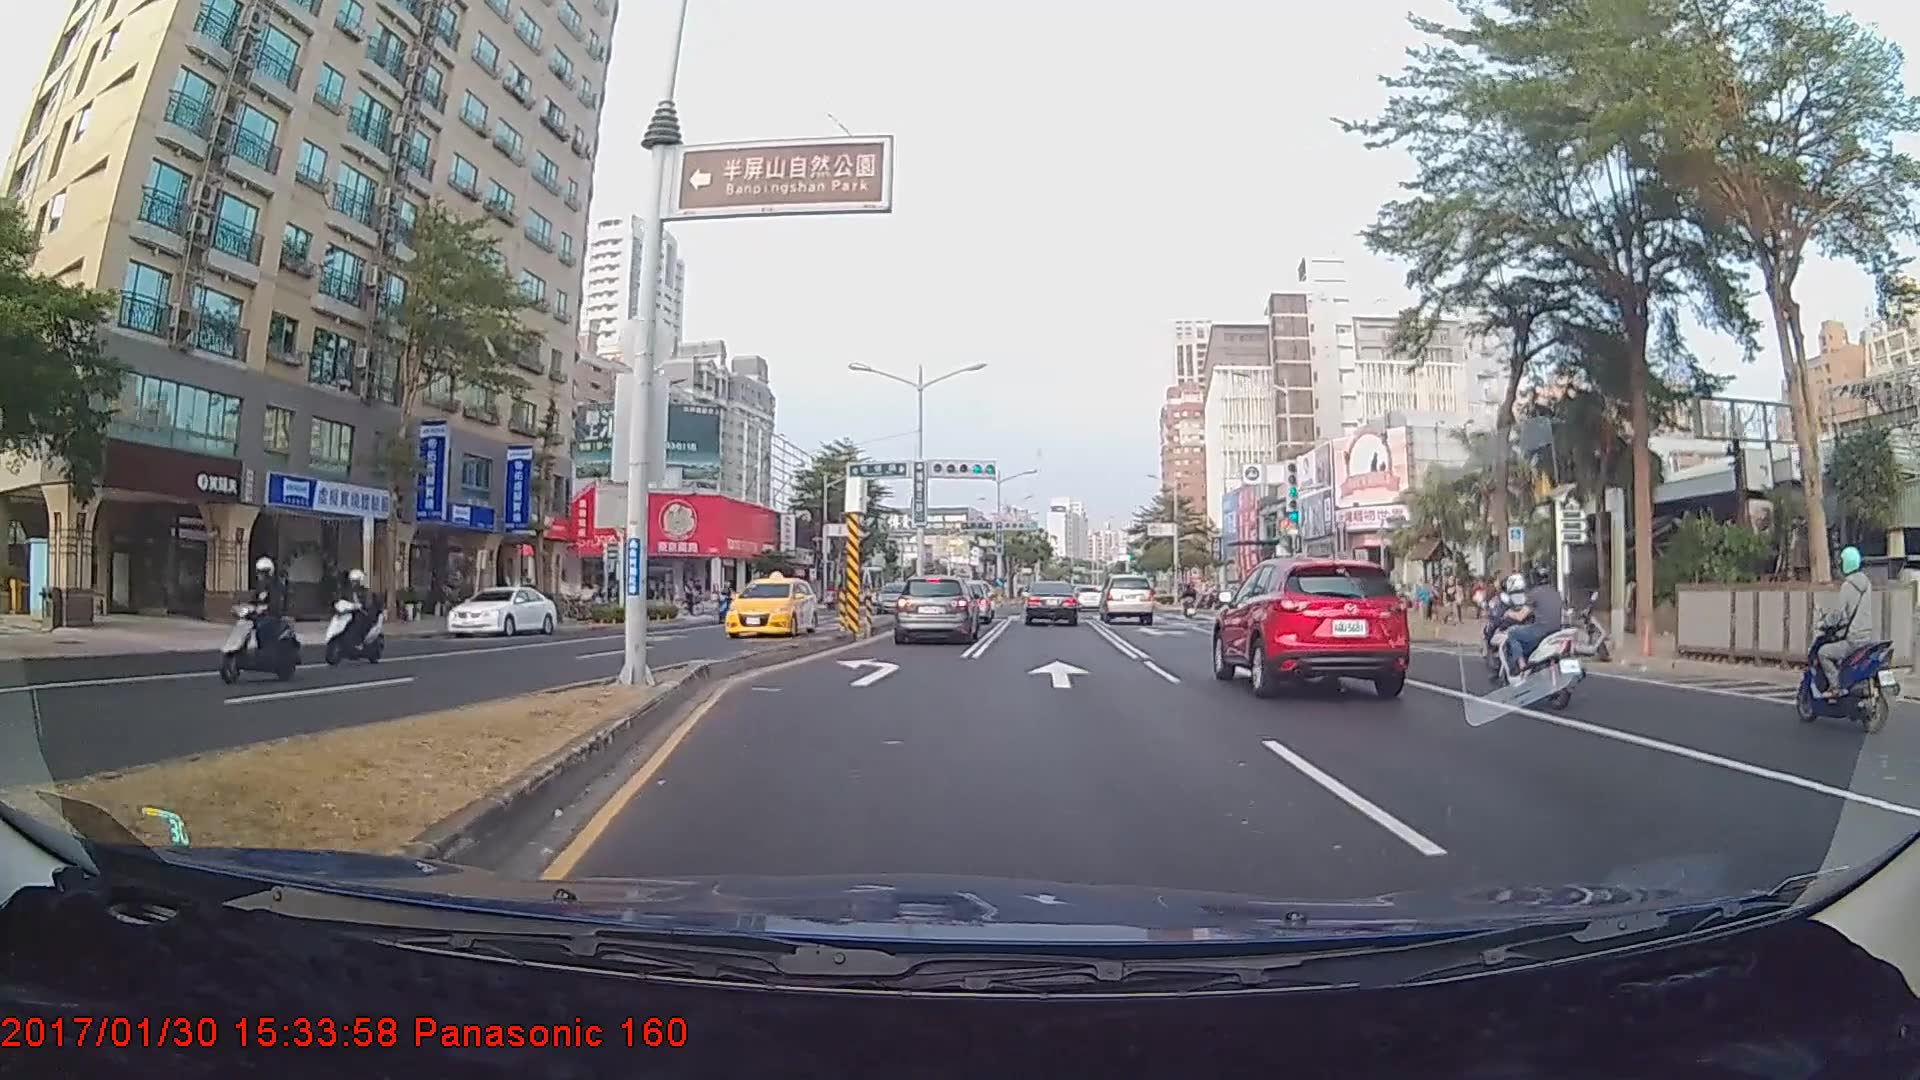rider: (1792, 544, 1909, 736), (1493, 562, 1594, 712), (217, 557, 307, 686), (316, 570, 388, 673)
vehicle: (1218, 553, 1412, 697), (727, 570, 820, 637), (892, 575, 978, 644), (446, 585, 557, 637), (1098, 573, 1155, 625), (1020, 579, 1078, 627)
